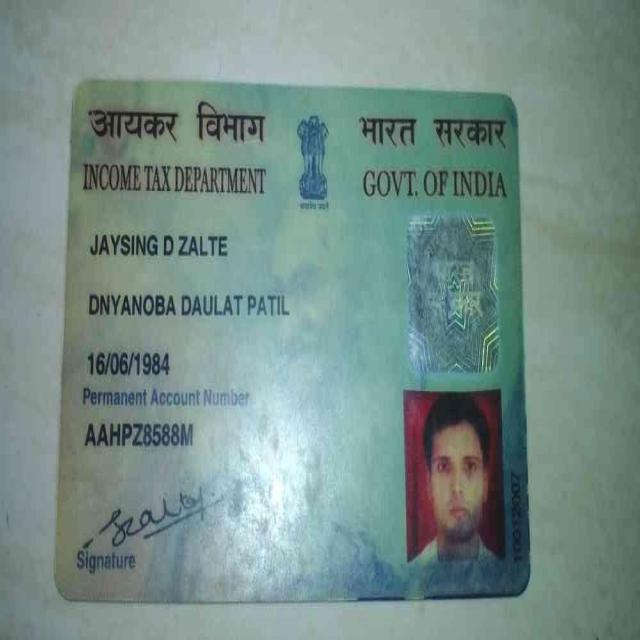pan_card: (60, 81, 528, 596)
